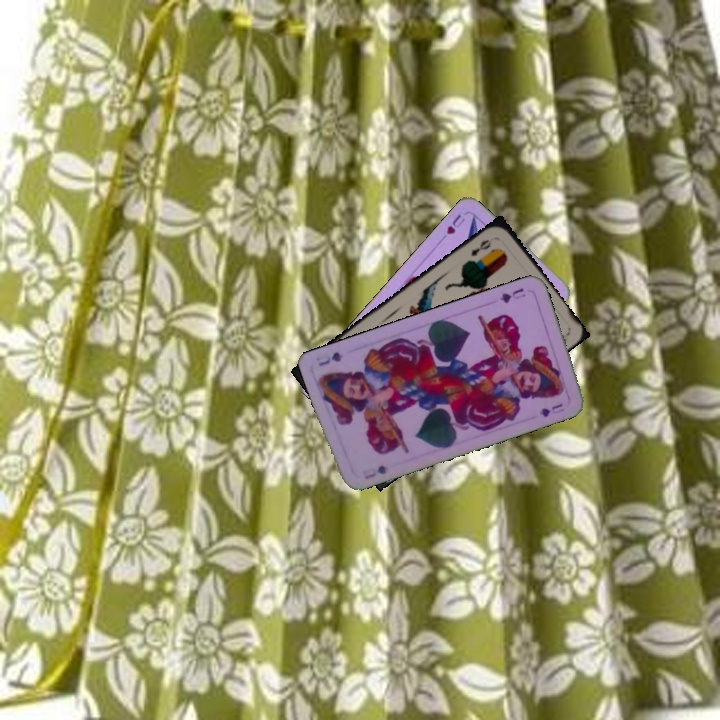EO: (466, 235, 494, 259)
GU: (495, 284, 528, 306), (358, 461, 391, 482)
HU: (443, 210, 468, 237)
